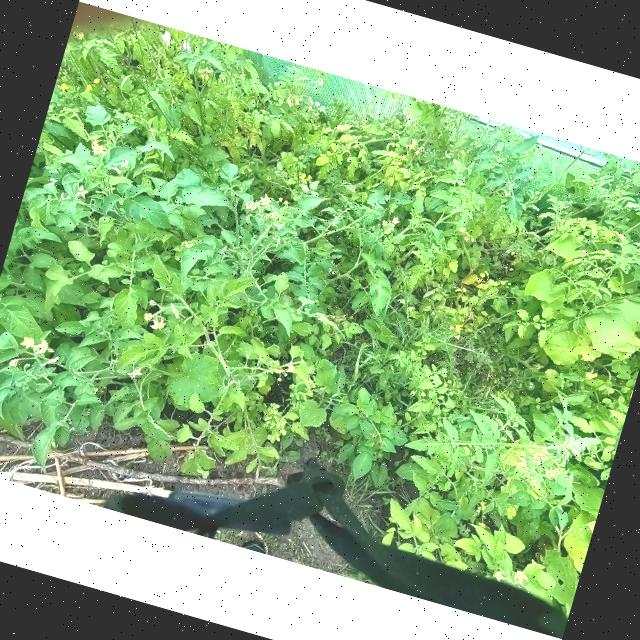Flowers: (32, 338, 50, 357), (512, 570, 531, 588), (148, 314, 166, 332), (127, 364, 144, 381), (17, 334, 34, 349), (168, 305, 182, 319), (75, 184, 88, 198), (258, 194, 272, 206), (92, 141, 104, 155), (406, 137, 418, 150), (492, 571, 504, 583), (184, 238, 196, 250), (284, 362, 295, 374), (48, 354, 60, 364), (142, 312, 152, 322), (300, 173, 311, 182), (391, 215, 400, 225), (464, 234, 474, 243), (453, 324, 462, 334), (458, 226, 468, 234), (248, 202, 256, 212), (8, 359, 18, 367), (59, 82, 68, 90), (84, 83, 92, 91), (454, 333, 461, 340), (92, 78, 100, 84), (414, 149, 419, 157), (381, 220, 387, 226), (448, 324, 454, 330)
